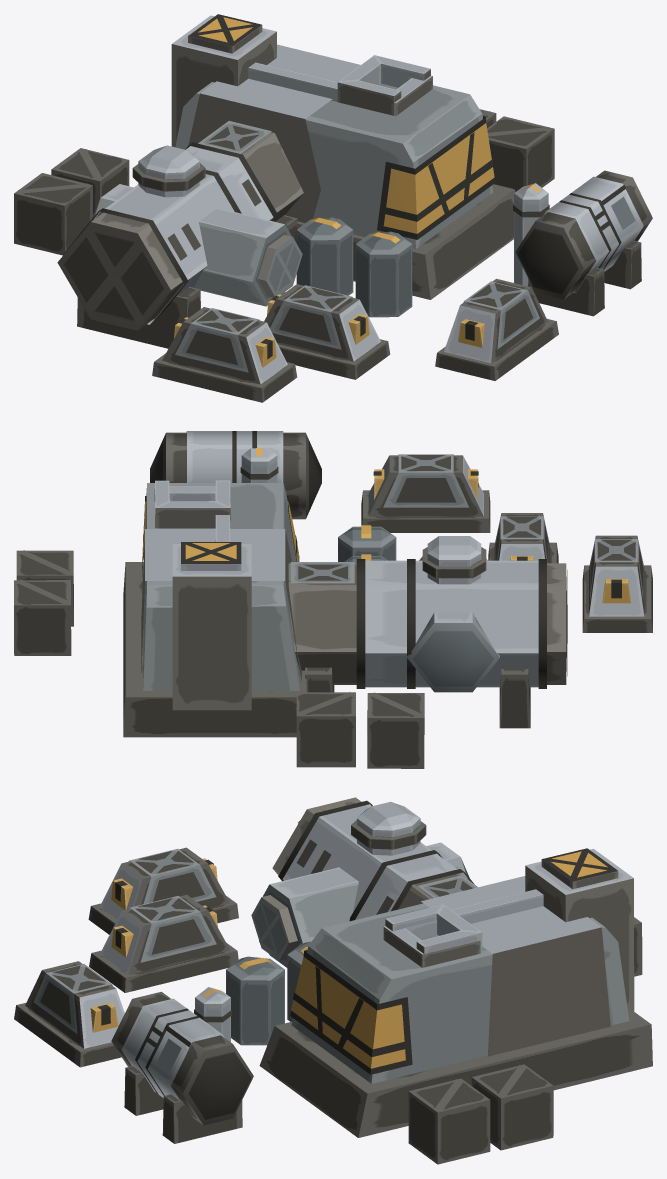
The model's file is supplydepot2.FBX.
3 views of the same model, one above another, from view 1: azimuth 30°, elevation 25°; view 2: azimuth 150°, elevation 25°; view 3: azimuth 270°, elevation 25° (orthographic). The views are drawn at different scales.
Visible parts, largest first — view 1: Supplydepot2, c, a, d, b; view 2: Supplydepot2, c, a, d, b; view 3: Supplydepot2, c, a, d, b.
Boxes of the visible parts, bbox=[...] form: Supplydepot2: bbox=[14, 14, 652, 402]; c: bbox=[337, 55, 430, 115]; a: bbox=[138, 145, 199, 197]; d: bbox=[513, 183, 549, 286]; b: bbox=[132, 163, 205, 191]; Supplydepot2: bbox=[14, 431, 652, 768]; c: bbox=[155, 480, 230, 528]; a: bbox=[427, 536, 481, 584]; d: bbox=[240, 448, 278, 482]; b: bbox=[422, 547, 486, 578]; Supplydepot2: bbox=[14, 797, 652, 1164]; c: bbox=[385, 904, 482, 953]; a: bbox=[357, 801, 420, 855]; d: bbox=[194, 987, 231, 1042]; b: bbox=[351, 820, 426, 849].
Size of the model in its own units: 144 by 148 by 47.37.
